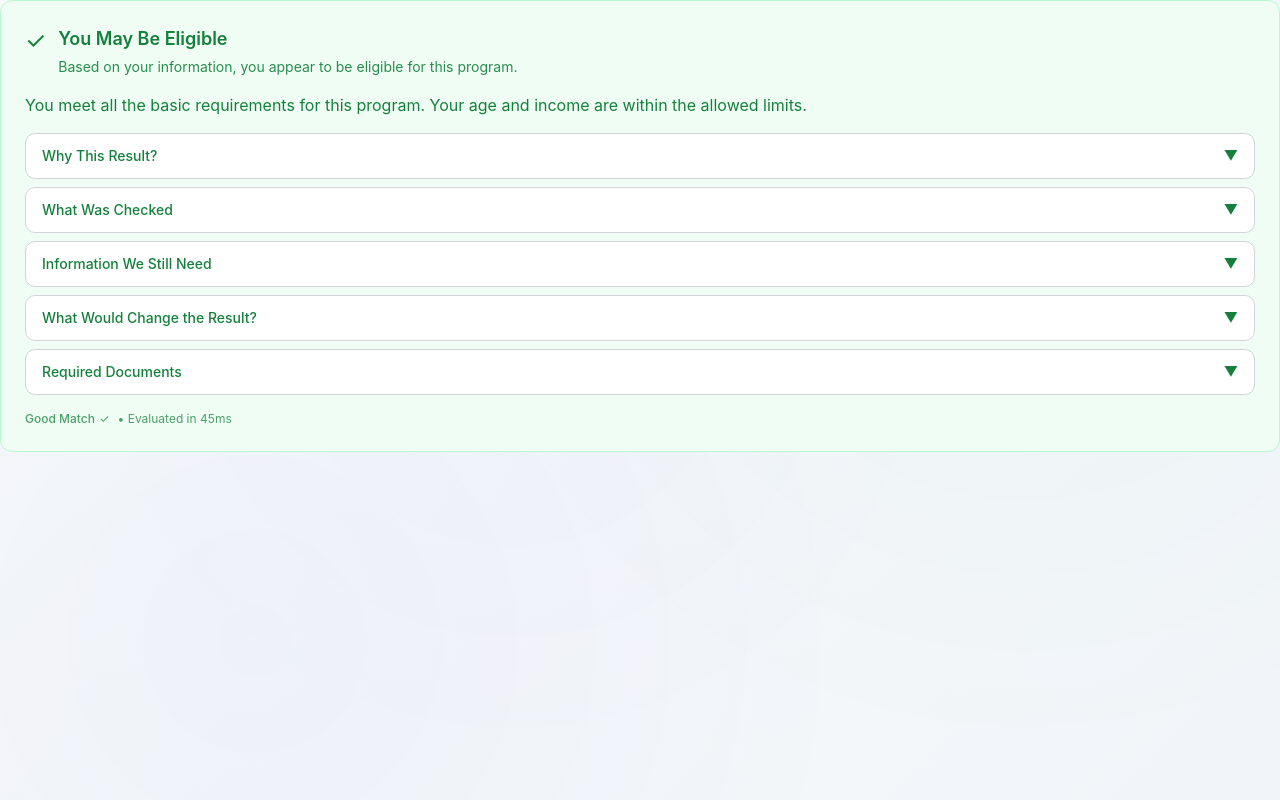
Scenario: Utility Functions › formatFieldName › formats unknown field names using fallback logic
The image size is (1280, 800).
# Expand the missing information section
What coordinates should you click on to do the following:
click the text "Information We Still Need"
I would click on:
 (127, 264)
Its box is [42,254,212,274].
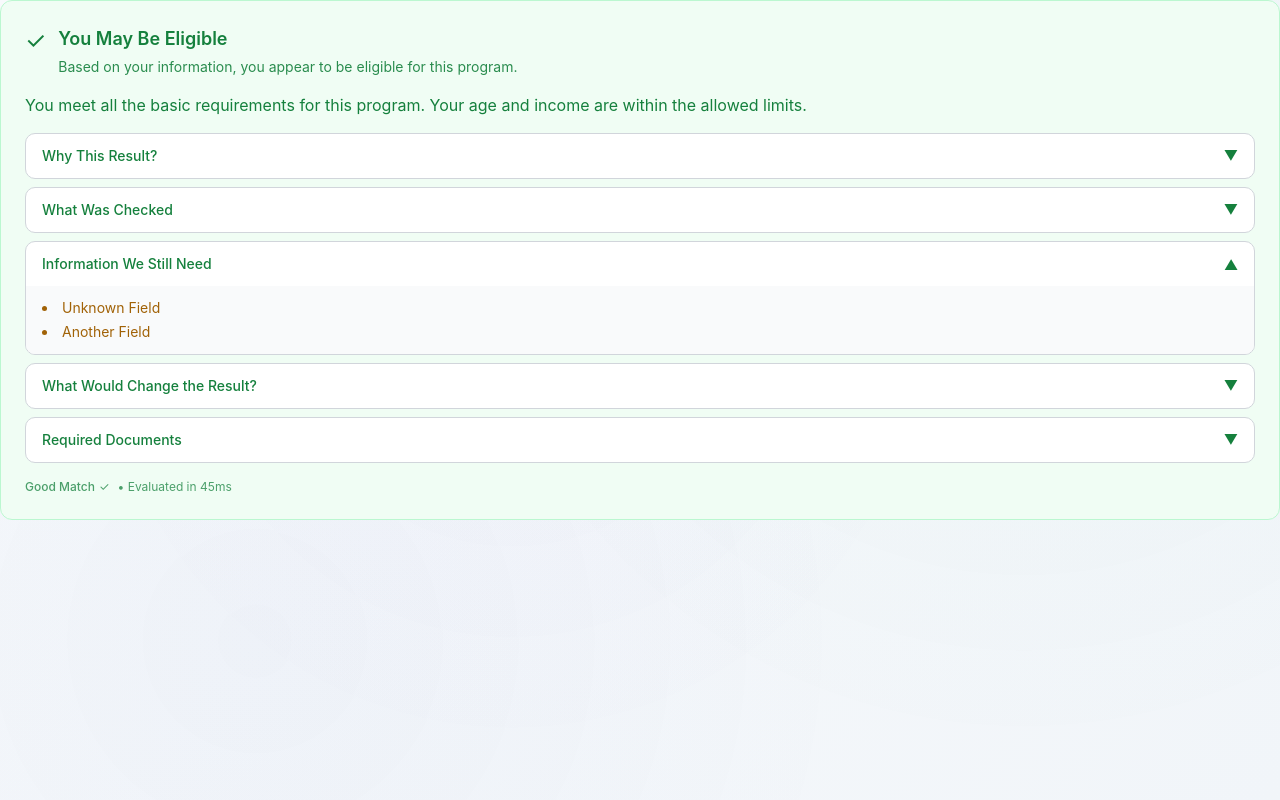
Now the list item "Unknown Field" is shown, box [62,299,160,316]
Now the list item "Another Field" is shown, box [62,323,150,340]
